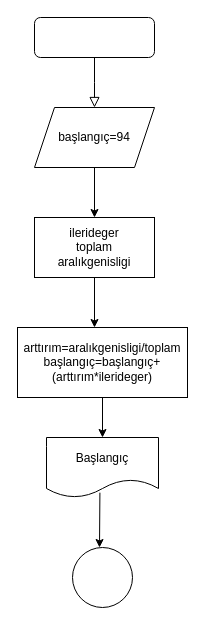
The diagram is 205 pixels wide and 625 high, and some of its shapes have lost their labels. Here are the shapes that lost their labels. From the top down, the centre of each, then its label:
(x=94, y=37): Başla
(x=102, y=577): Bitiş
